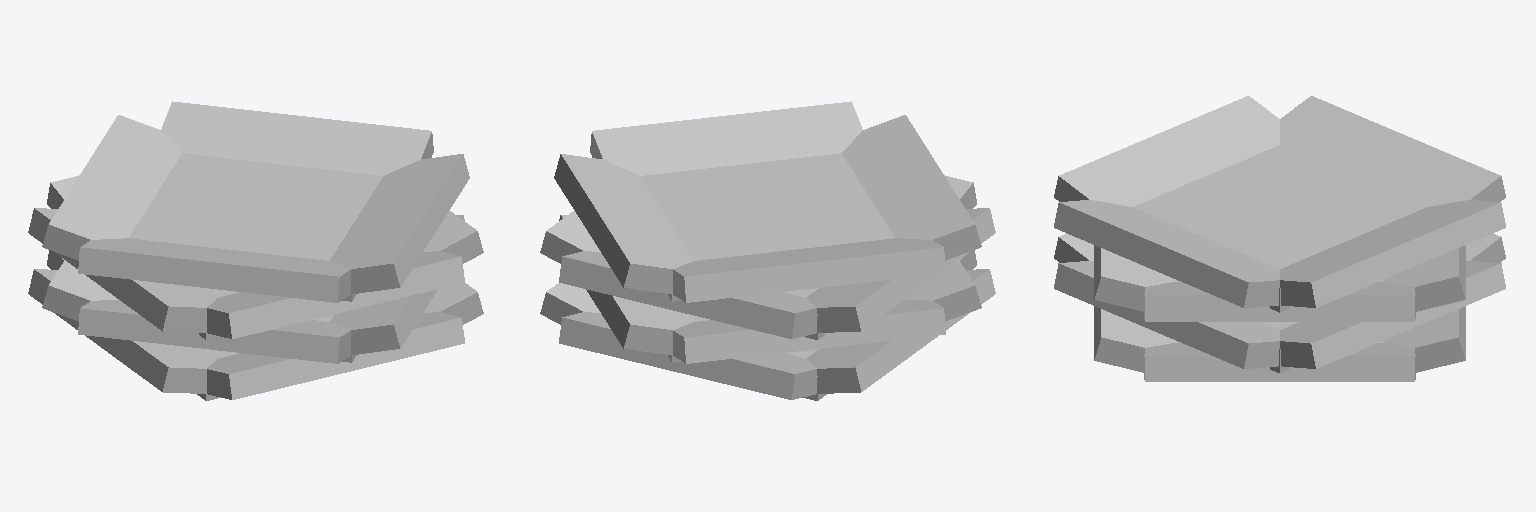
Rendered from teaplate_4.obj.
The picture shows the model from 3 angles: view 1: azimuth 30°, elevation 25°; view 2: azimuth 150°, elevation 25°; view 3: azimuth 270°, elevation 25°; orthographic projection.
Parts seen in each view (by area): view 1: bottom_4, south_rim_4, north_rim_4, west_rim_4, east_rim_4, west_rim_2, west_rim_3, south_rim_1, west_rim_1, north_rim_3, south_rim_2, north_rim_2 (+3 smaller); view 2: bottom_4, west_rim_4, east_rim_4, south_rim_4, north_rim_4, north_rim_2, east_rim_3, north_rim_1, west_rim_1, north_rim_3, east_rim_2, west_rim_2 (+3 smaller); view 3: bottom_4, east_rim_4, north_rim_4, west_rim_4, south_rim_4, south_rim_3, east_rim_1, east_rim_2, south_rim_2, north_rim_1, south_rim_1, east_rim_3 (+3 smaller).
Boxes of the visible parts, x1=… form: bottom_4: x1=129, y1=153, x2=382, y2=301; south_rim_4: x1=161, y1=101, x2=433, y2=175; north_rim_4: x1=78, y1=238, x2=350, y2=302; west_rim_4: x1=330, y1=154, x2=469, y2=293; east_rim_4: x1=42, y1=115, x2=181, y2=260; west_rim_2: x1=78, y1=300, x2=350, y2=363; west_rim_3: x1=207, y1=251, x2=464, y2=338; south_rim_1: x1=207, y1=312, x2=464, y2=399; west_rim_1: x1=28, y1=269, x2=217, y2=393; north_rim_3: x1=28, y1=208, x2=217, y2=332; south_rim_2: x1=330, y1=215, x2=464, y2=354; north_rim_2: x1=42, y1=260, x2=118, y2=321; bottom_4: x1=641, y1=153, x2=894, y2=301; west_rim_4: x1=590, y1=101, x2=862, y2=175; east_rim_4: x1=673, y1=238, x2=945, y2=302; south_rim_4: x1=554, y1=154, x2=693, y2=293; north_rim_4: x1=842, y1=115, x2=981, y2=260; north_rim_2: x1=673, y1=300, x2=945, y2=363; east_rim_3: x1=559, y1=251, x2=816, y2=338; north_rim_1: x1=559, y1=312, x2=816, y2=399; west_rim_1: x1=806, y1=269, x2=995, y2=393; north_rim_3: x1=806, y1=208, x2=995, y2=332; east_rim_2: x1=559, y1=215, x2=693, y2=354; west_rim_2: x1=905, y1=260, x2=981, y2=321; bottom_4: x1=1134, y1=145, x2=1425, y2=312; east_rim_4: x1=1280, y1=96, x2=1505, y2=206; north_rim_4: x1=1054, y1=96, x2=1279, y2=206; west_rim_4: x1=1054, y1=200, x2=1279, y2=307; south_rim_4: x1=1280, y1=200, x2=1505, y2=307; south_rim_3: x1=1145, y1=282, x2=1414, y2=321; east_rim_1: x1=1145, y1=343, x2=1414, y2=381; east_rim_2: x1=1280, y1=261, x2=1505, y2=368; south_rim_2: x1=1054, y1=261, x2=1279, y2=368; north_rim_1: x1=1384, y1=306, x2=1465, y2=372; south_rim_1: x1=1094, y1=306, x2=1175, y2=372; east_rim_3: x1=1384, y1=245, x2=1465, y2=311.
Size of the model in its own units: 1.05 by 0.3433 by 1.05.